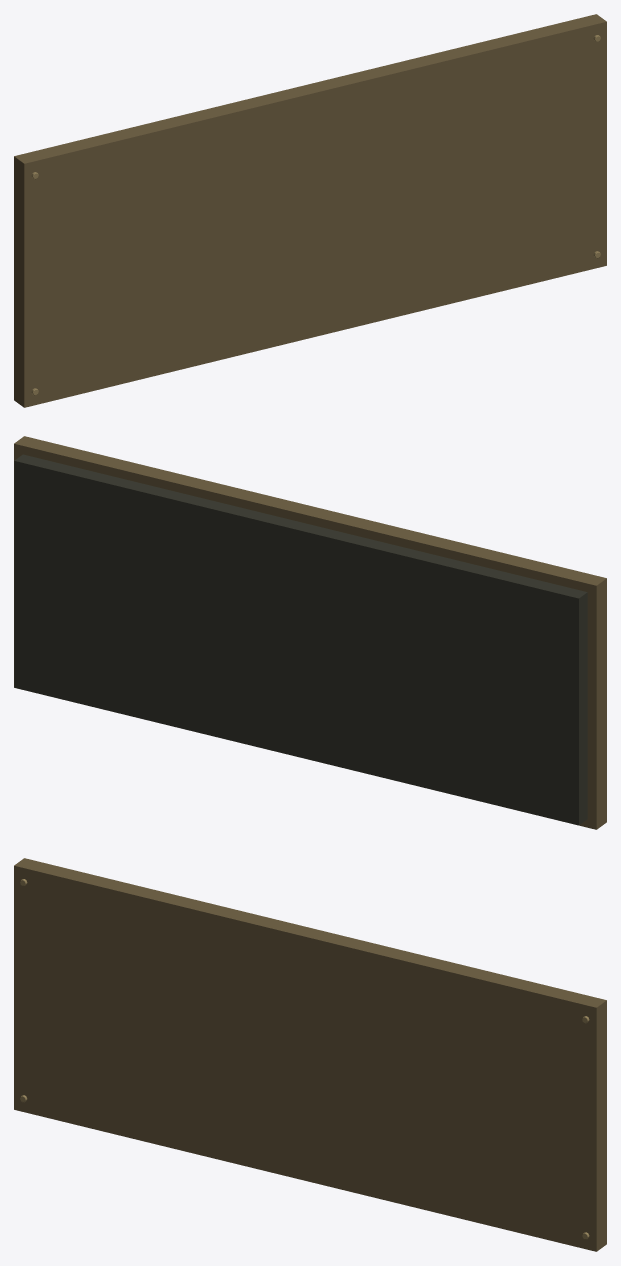
The model's file is sign-mount-rc33.glb.
3 renders of one model, top to bottom at view 1: azimuth 30°, elevation 25°; view 2: azimuth 150°, elevation 25°; view 3: azimuth 330°, elevation 25°, orthographic.
Visible parts, largest first — view 1: Pressed and folded metal tray; view 2: Isolation shadow gasket, Pressed and folded metal tray; view 3: Pressed and folded metal tray.
Boxes of the visible parts, x1,y1,x2,y2 form: Pressed and folded metal tray: (14, 14, 606, 407); Isolation shadow gasket: (14, 454, 587, 825); Pressed and folded metal tray: (14, 436, 606, 829); Pressed and folded metal tray: (14, 858, 606, 1251).
Size of the model in its own units: 1.82 by 0.727 by 0.1105.
